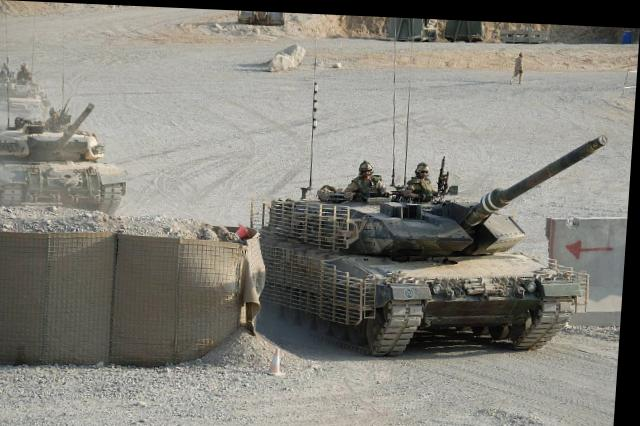other: (340, 143, 392, 200), (396, 148, 443, 196), (501, 38, 535, 75)
tank: (261, 165, 575, 347)
